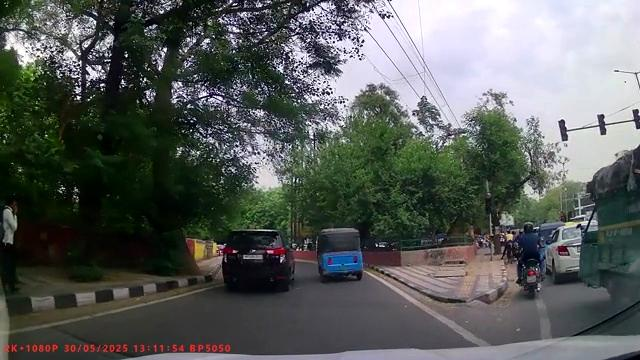motorcycle_with_helmet: (514, 221, 545, 297)
